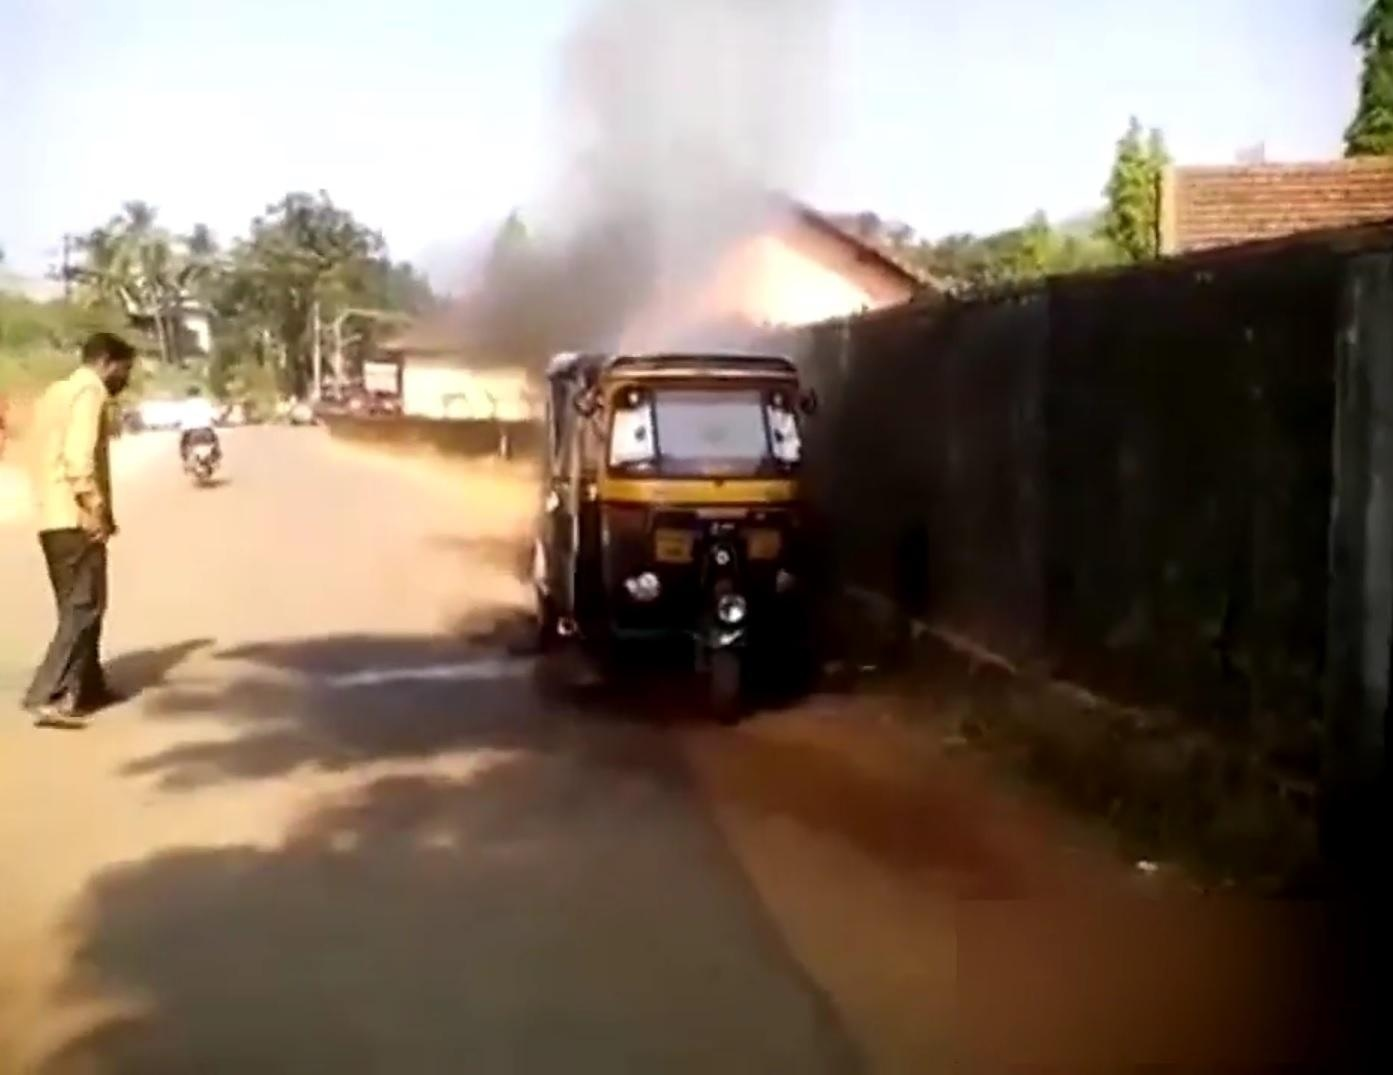fire: (731, 236, 877, 322)
